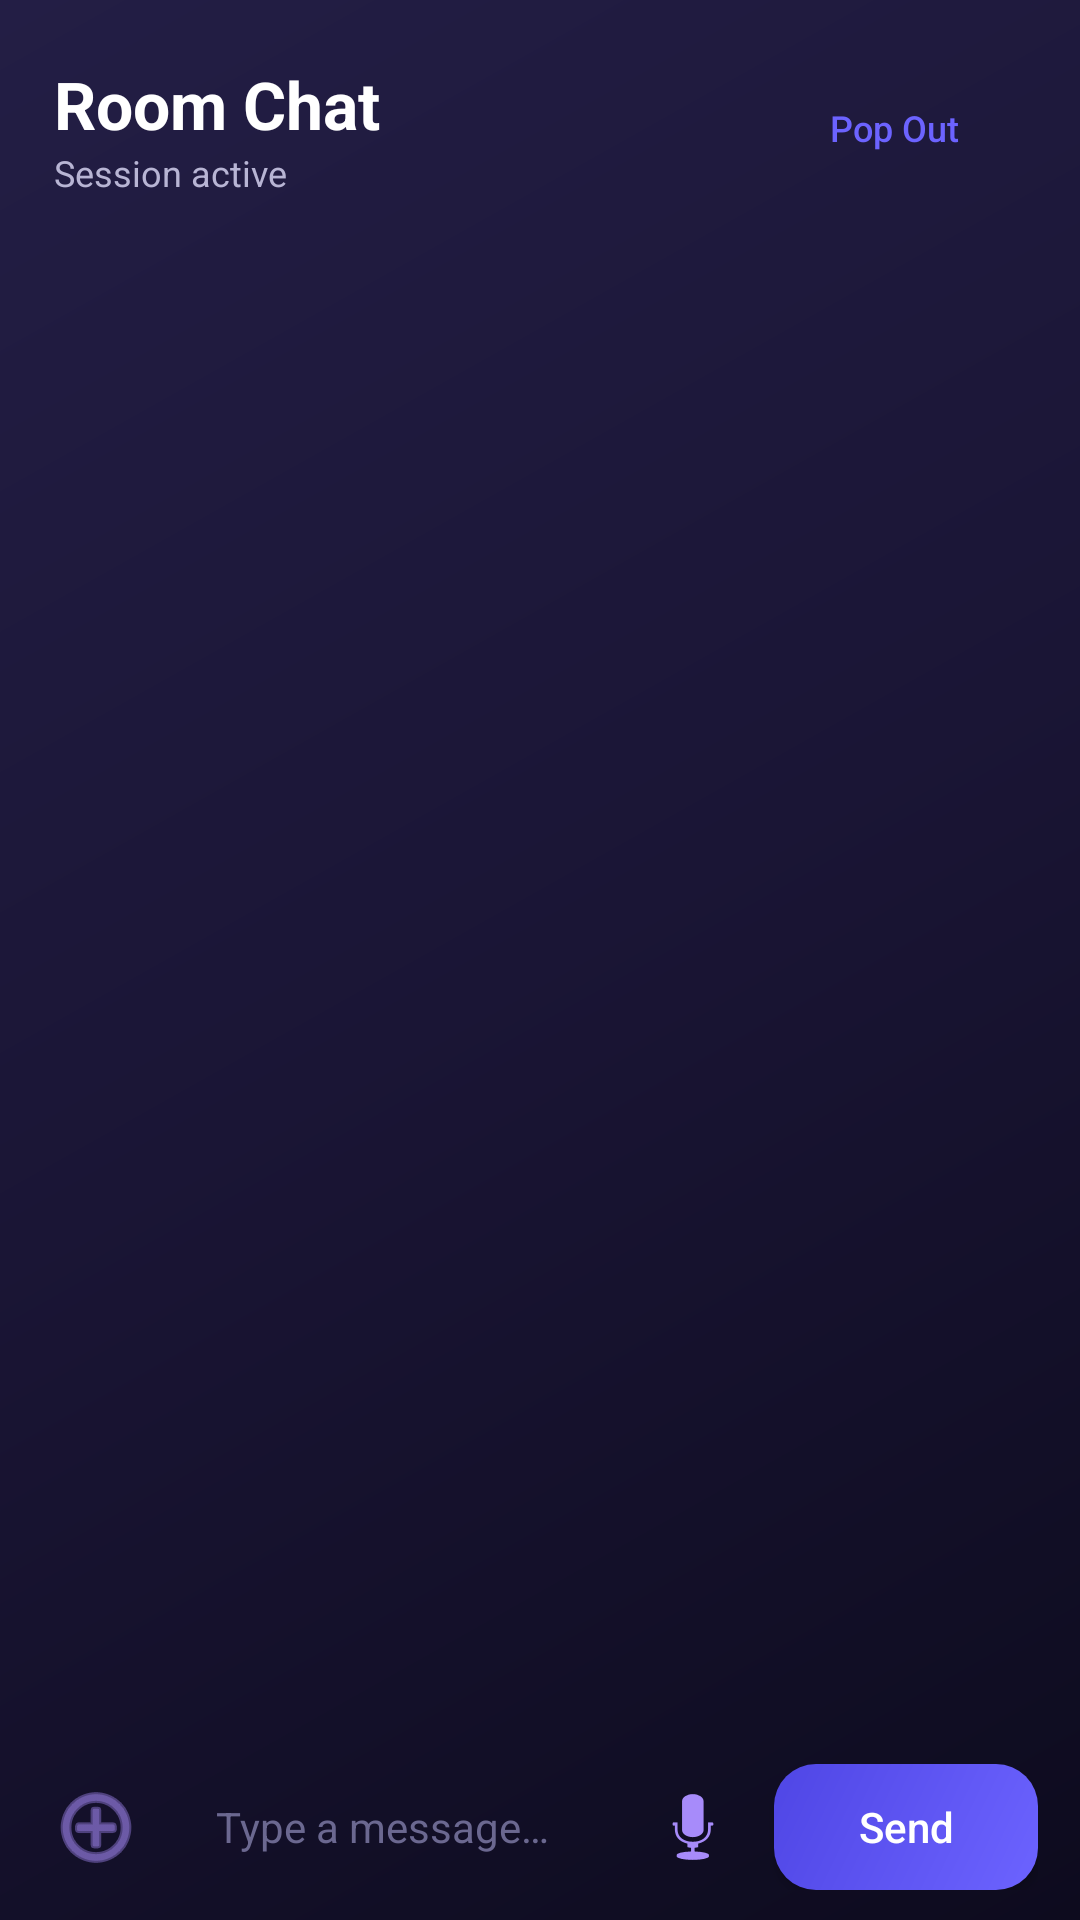

Named icons in this screenshot (1080 x 1920) and their centers, (x=x, y=y):
Attach: (x=96, y=1827)
Hold to record voice: (x=693, y=1827)
